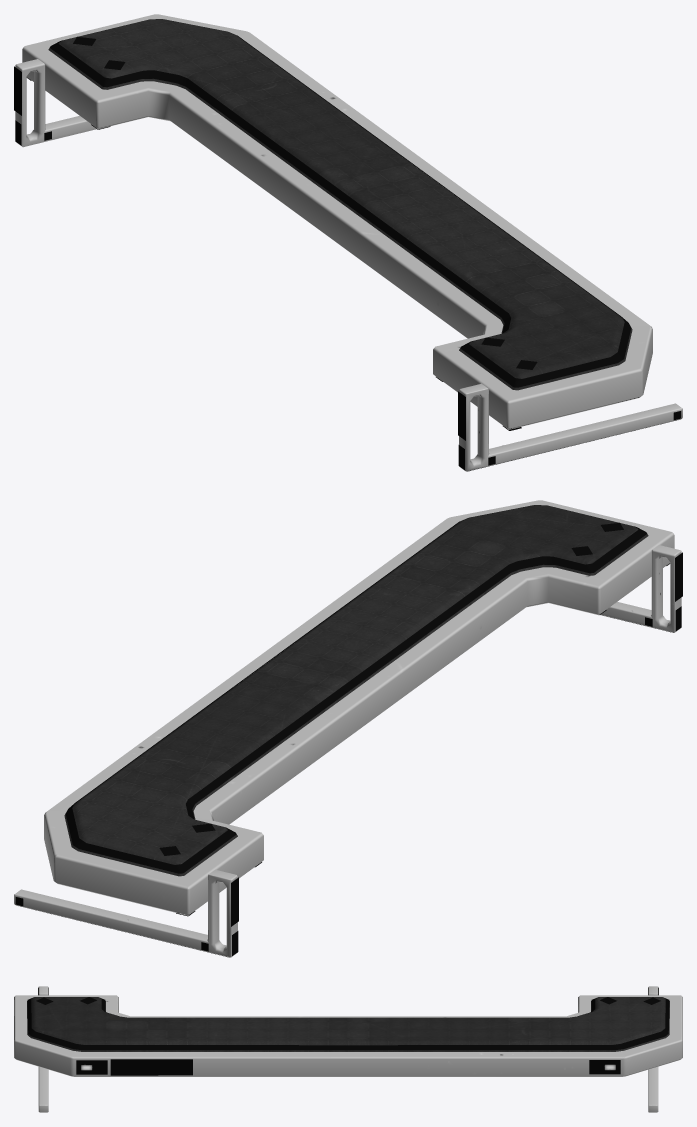
The model's file is SM_Stair_Single_Merged.fbx.
The picture shows the model from 3 angles, top to bottom: view 1: azimuth 30°, elevation 25°; view 2: azimuth 150°, elevation 25°; view 3: azimuth 270°, elevation 25°; orthographic projection. The views are drawn at different scales.
Visible parts, largest first — view 1: SM_Stair_Single_Merged_LOD0; view 2: SM_Stair_Single_Merged_LOD0; view 3: SM_Stair_Single_Merged_LOD0.
Part boxes in pixels (<box>): SM_Stair_Single_Merged_LOD0: <box>14,14,682,471</box>; SM_Stair_Single_Merged_LOD0: <box>14,500,682,957</box>; SM_Stair_Single_Merged_LOD0: <box>14,986,682,1112</box>.
Bounding box in the file's own units: 44.93 × 174 × 17.42.
